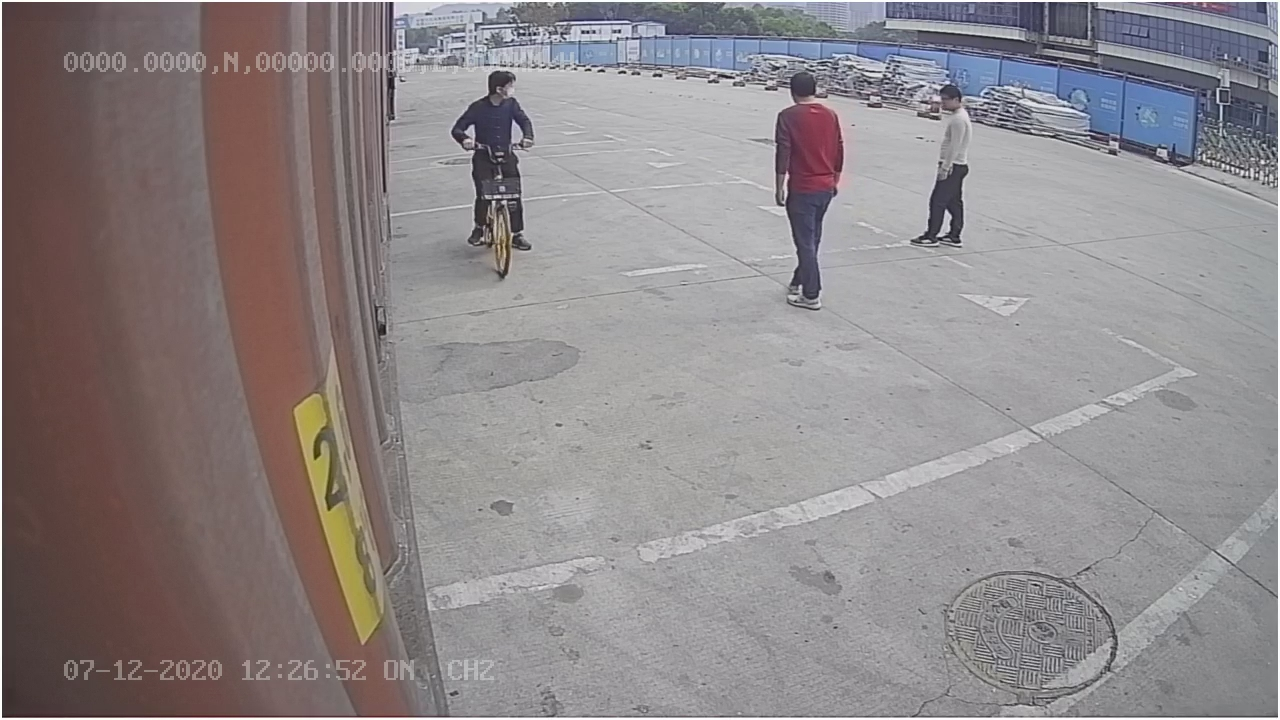person: (770, 65, 848, 315)
